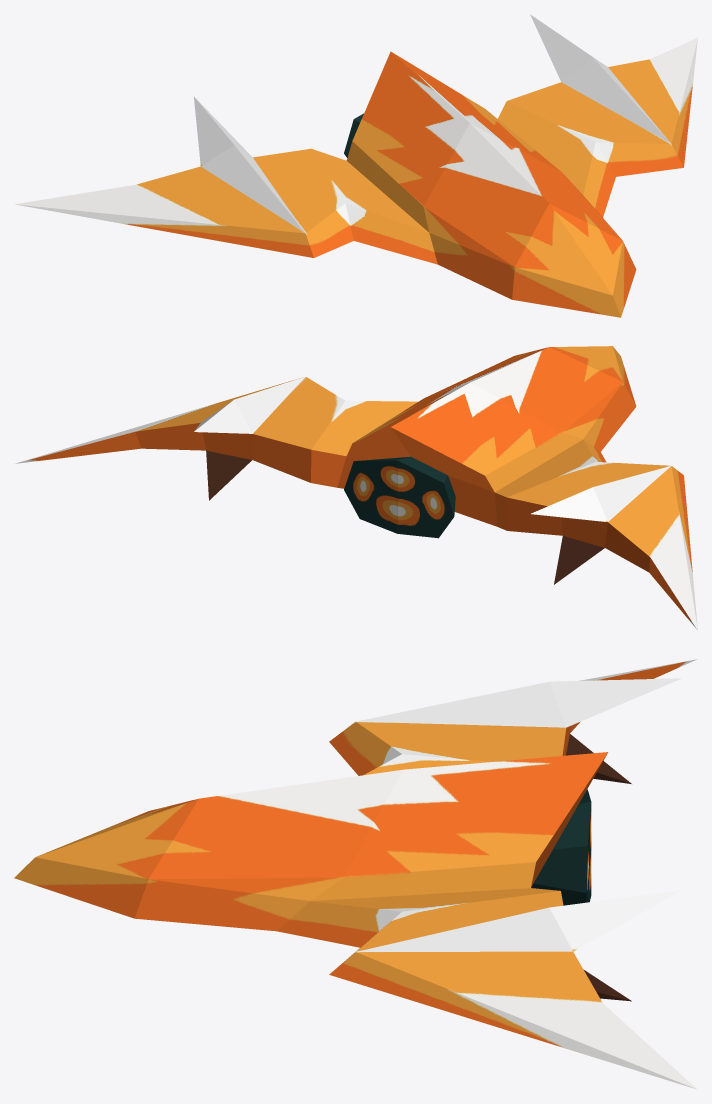
File: spark8.obj
3 renders of one model, top to bottom at view 1: azimuth 30°, elevation 25°; view 2: azimuth 150°, elevation 25°; view 3: azimuth 270°, elevation 25°, orthographic. The views are drawn at different scales.
Parts seen in each view (by area): view 1: Plane; view 2: Plane; view 3: Plane.
Boxes of the visible parts, box(x1,y1,x2,y2) form: Plane: box(15, 14, 697, 317); Plane: box(15, 346, 697, 630); Plane: box(14, 659, 697, 1089).
Size of the model in its own units: 2.17 by 0.3383 by 1.46.
1 material, 1 textured.
